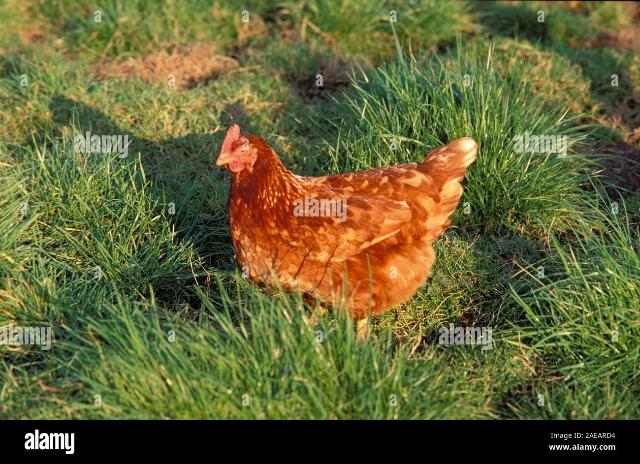Chicken: (217, 123, 477, 341)
